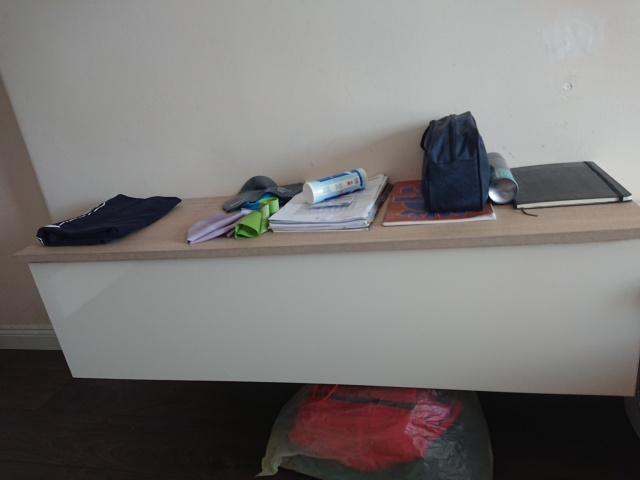Solana Pag Fine Sea Salt 250g: (301, 165, 370, 207)
